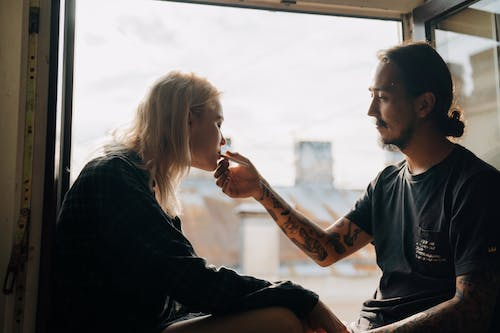cigarette: (221, 153, 250, 167)
